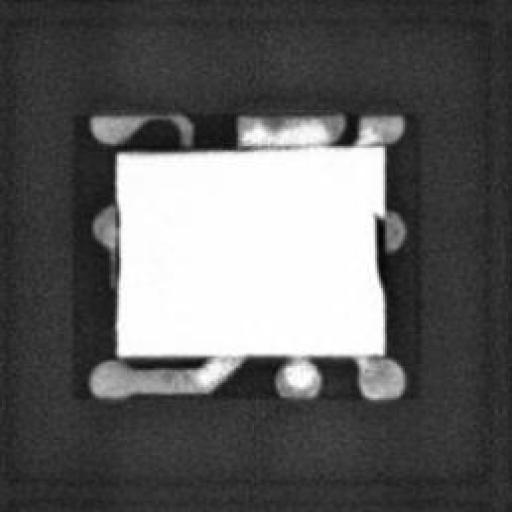DIE_BROKEN: (367, 209, 387, 290)
